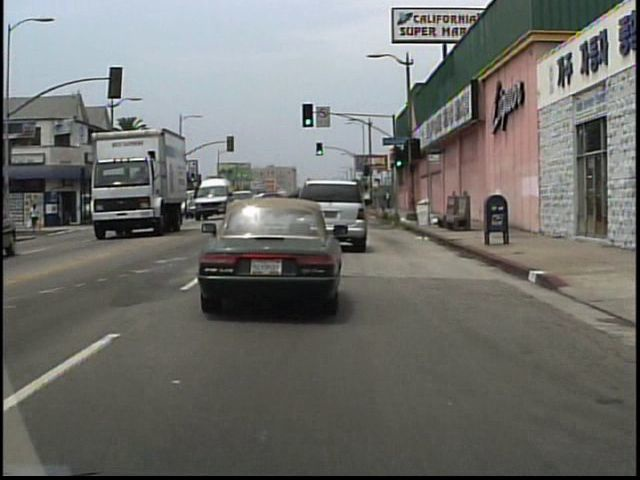person: (31, 203, 42, 231), (383, 189, 392, 210)
